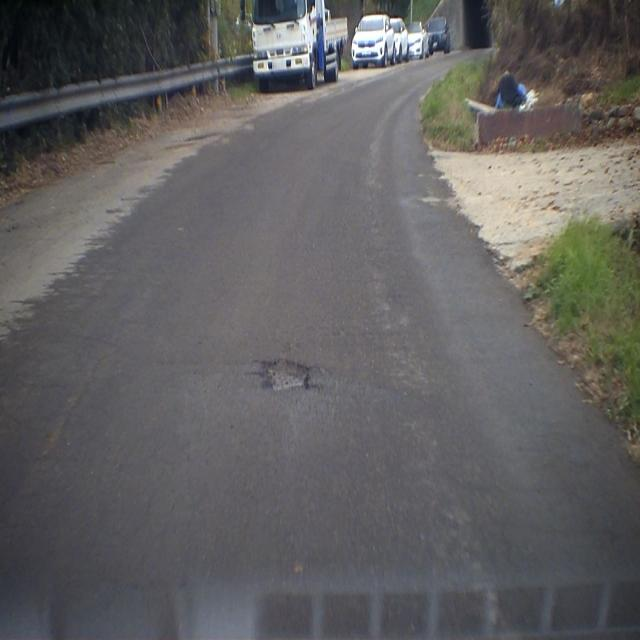Pothole: (252, 351, 324, 402)
